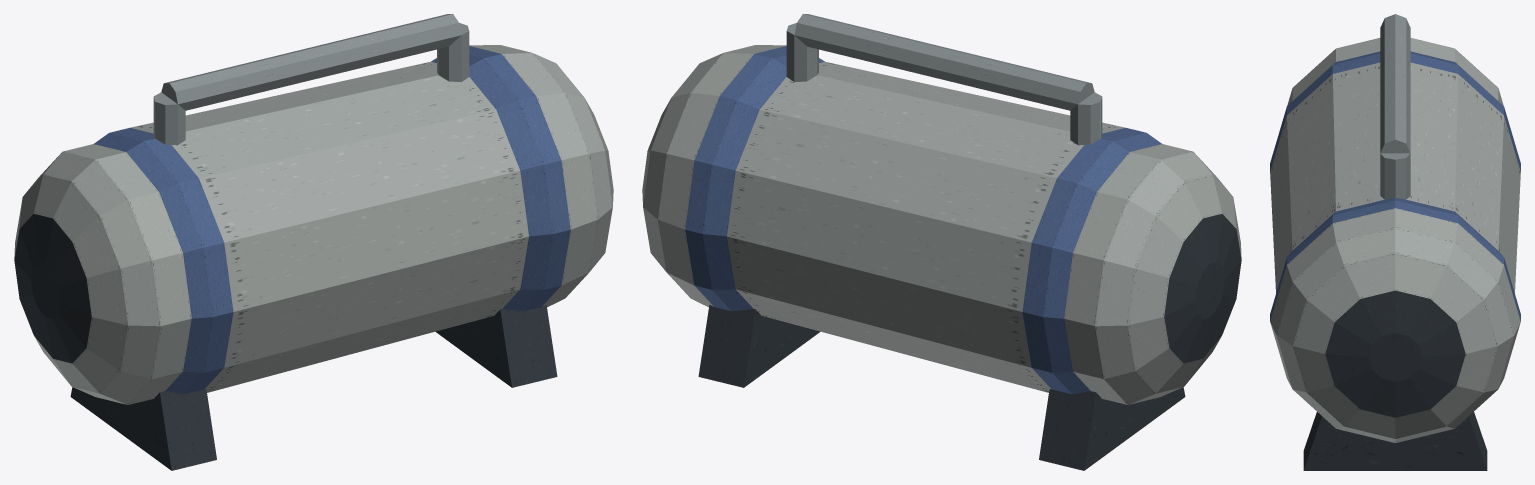
The model's file is HorizontalTank.fbx.
3 views of the same model, side by side, from view 1: azimuth 30°, elevation 25°; view 2: azimuth 150°, elevation 25°; view 3: azimuth 270°, elevation 25° (orthographic). The views are drawn at different scales.
Parts seen in each view (by area): view 1: HorizontalTank; view 2: HorizontalTank; view 3: HorizontalTank.
Boxes of the visible parts, <box> form: HorizontalTank: <box>14,14,613,470</box>; HorizontalTank: <box>642,14,1241,470</box>; HorizontalTank: <box>1270,14,1520,470</box>.
Size of the model in its own units: 520 by 314 by 232.
